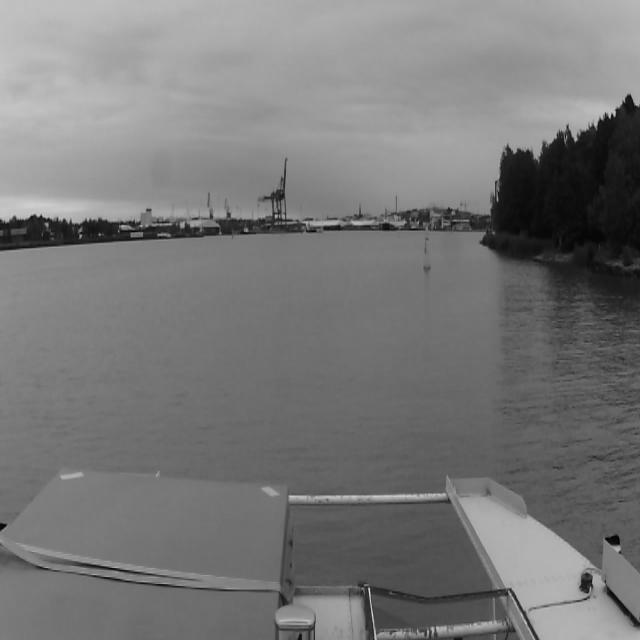buoy: (424, 226, 430, 269)
ship: (383, 208, 390, 230)
